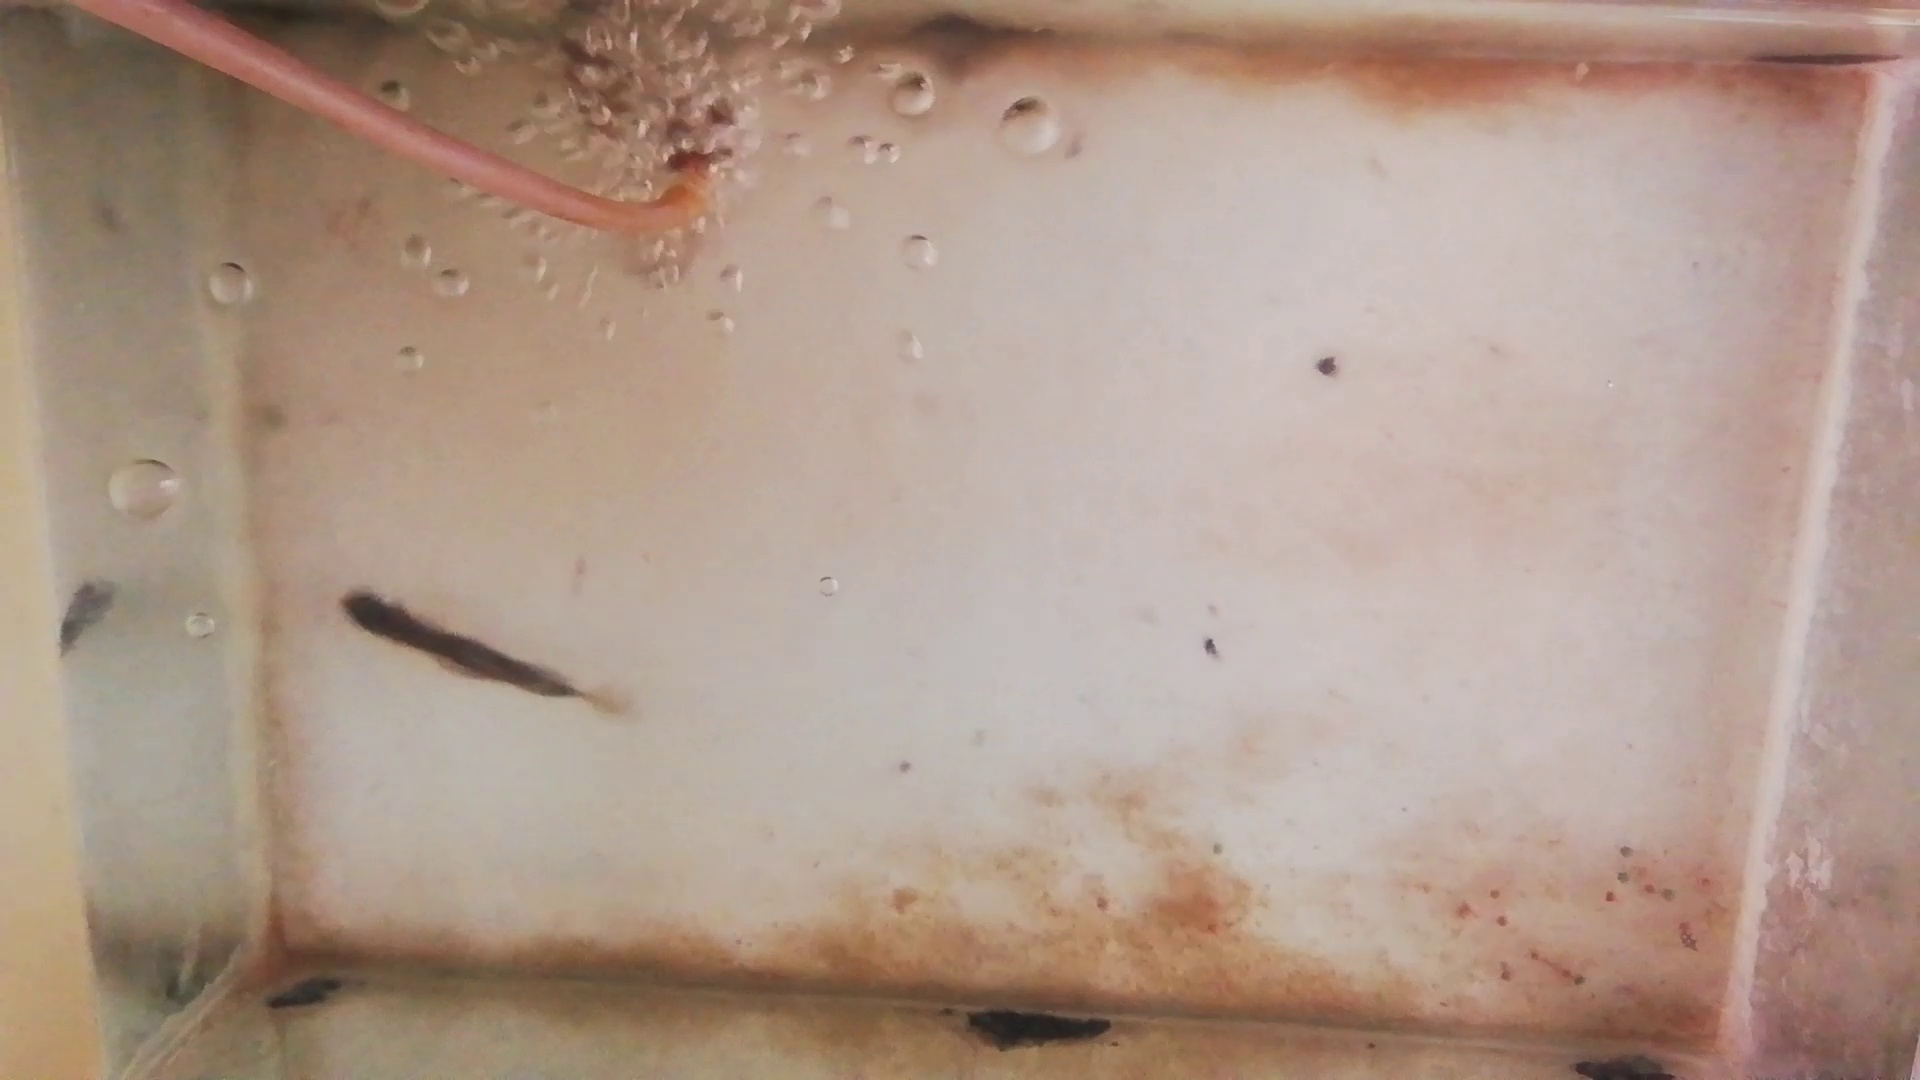fish: (336, 587, 574, 698), (560, 26, 642, 144)
